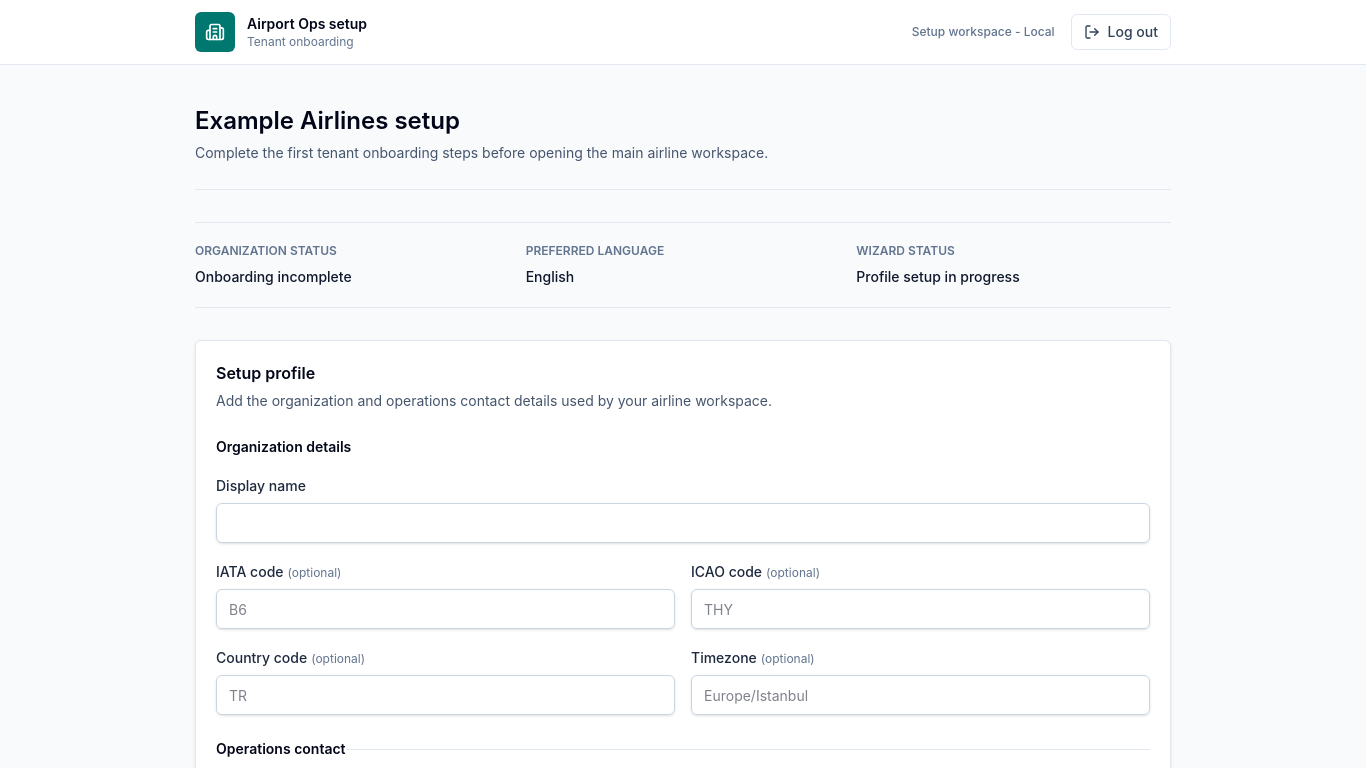
it: AppSetupPage › blocks PUT when Base airport IATA is invalid
The image size is (1366, 768).
Type "Airline Tenant" into the field labelled "Display name" at (683, 523), box [216,503,1150,543]
(page scrolled)
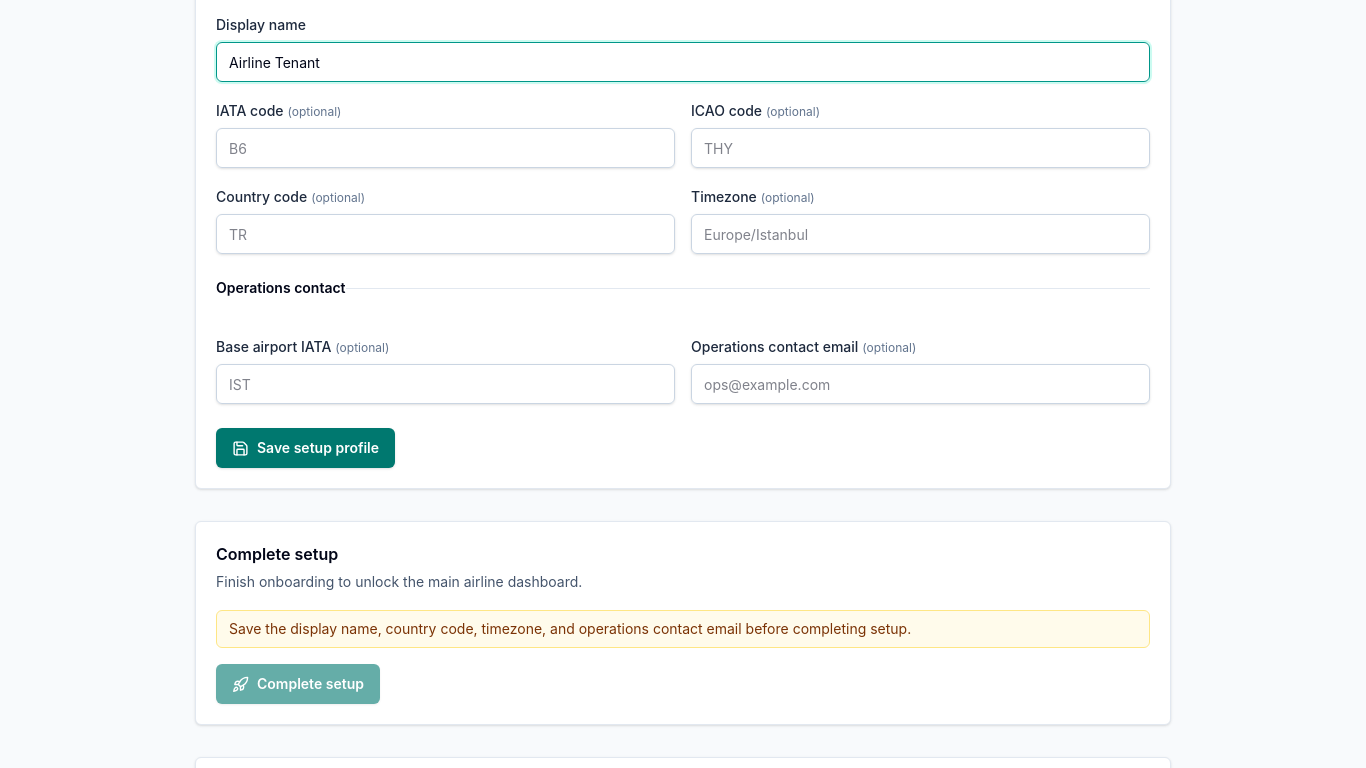
Type "12A" into the field labelled "Base airport IATA(optional)" at (446, 384), box [216,364,675,404]
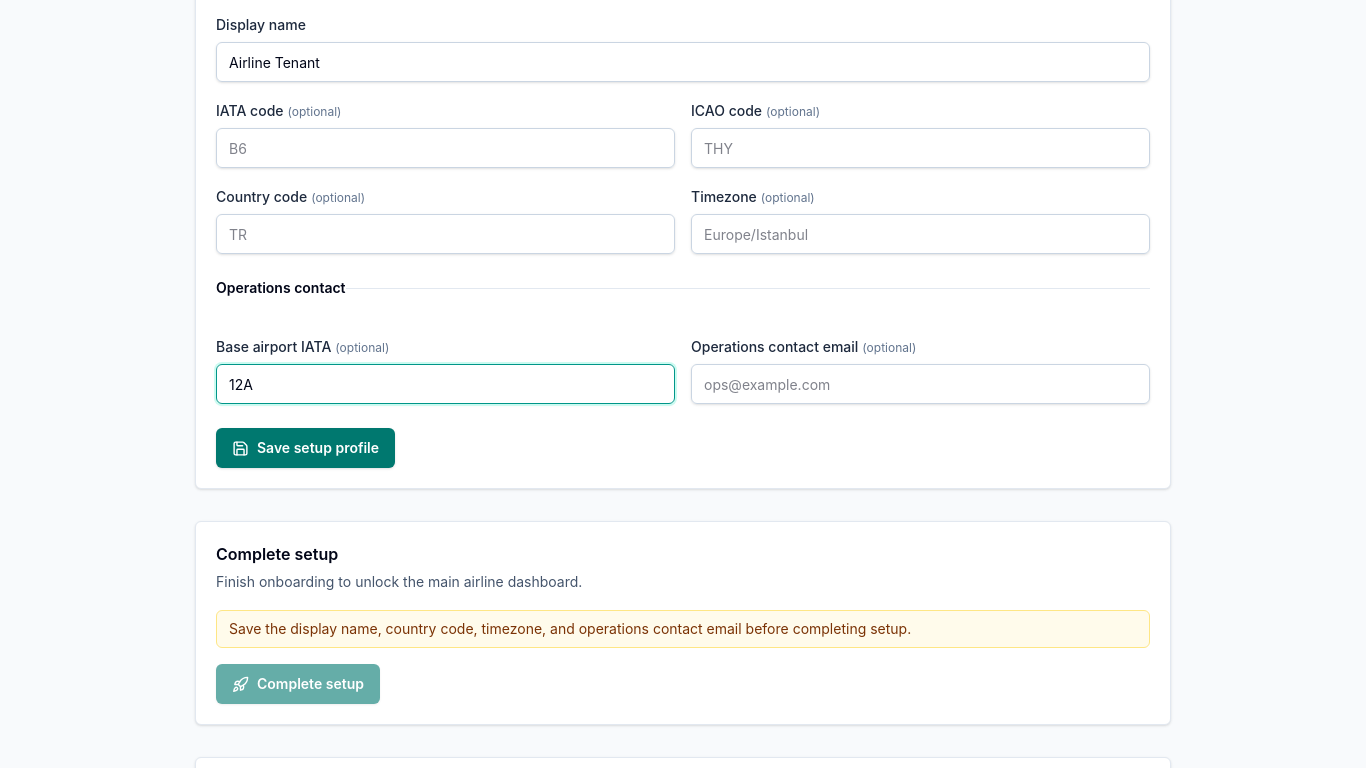
Click the button "Save setup profile" at (306, 448), box [216,428,395,468]
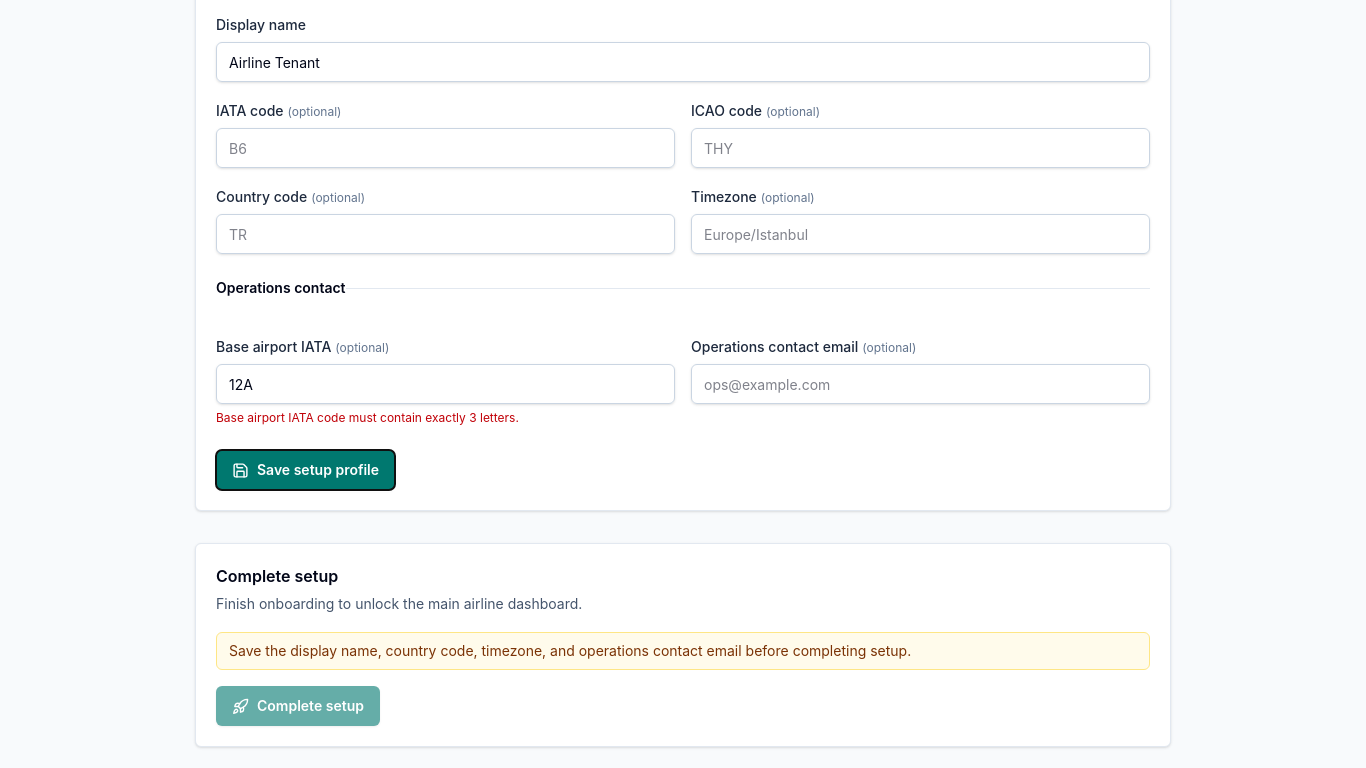
Now the text "Base airport IATA code must contain exactly 3 letters." is shown, box [216,410,519,425]
